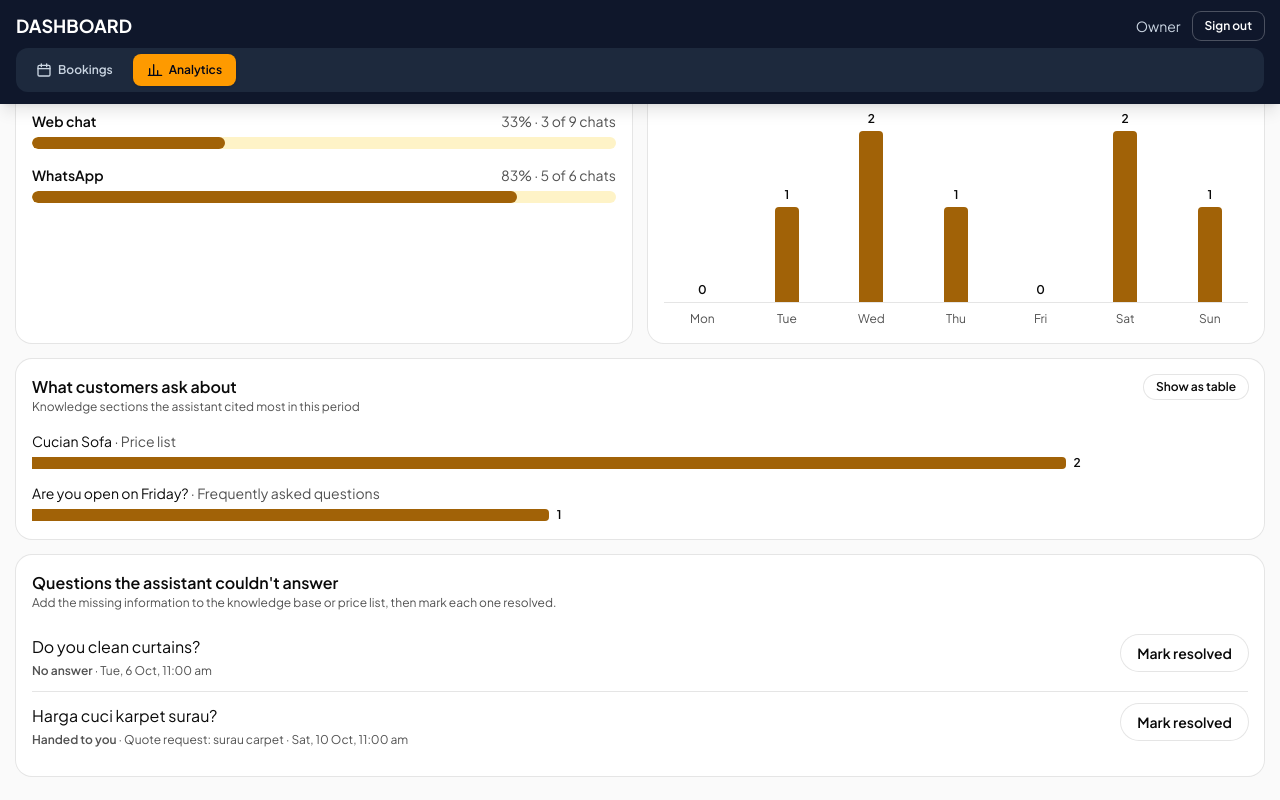
Test: analytics page › resolves an unanswered question and refreshes the count
(page scrolled)
Expected: the text "Do you clean curtains?" is shown, [32,635,212,659]
Expected: the text "Quote request: surau carpet" is shown, [117,732,284,747]
Step 1. Click the button "Mark resolved" in the row of "Do you clean curtains?" → (1185, 653), box [1121,635,1248,671]
(page scrolled)
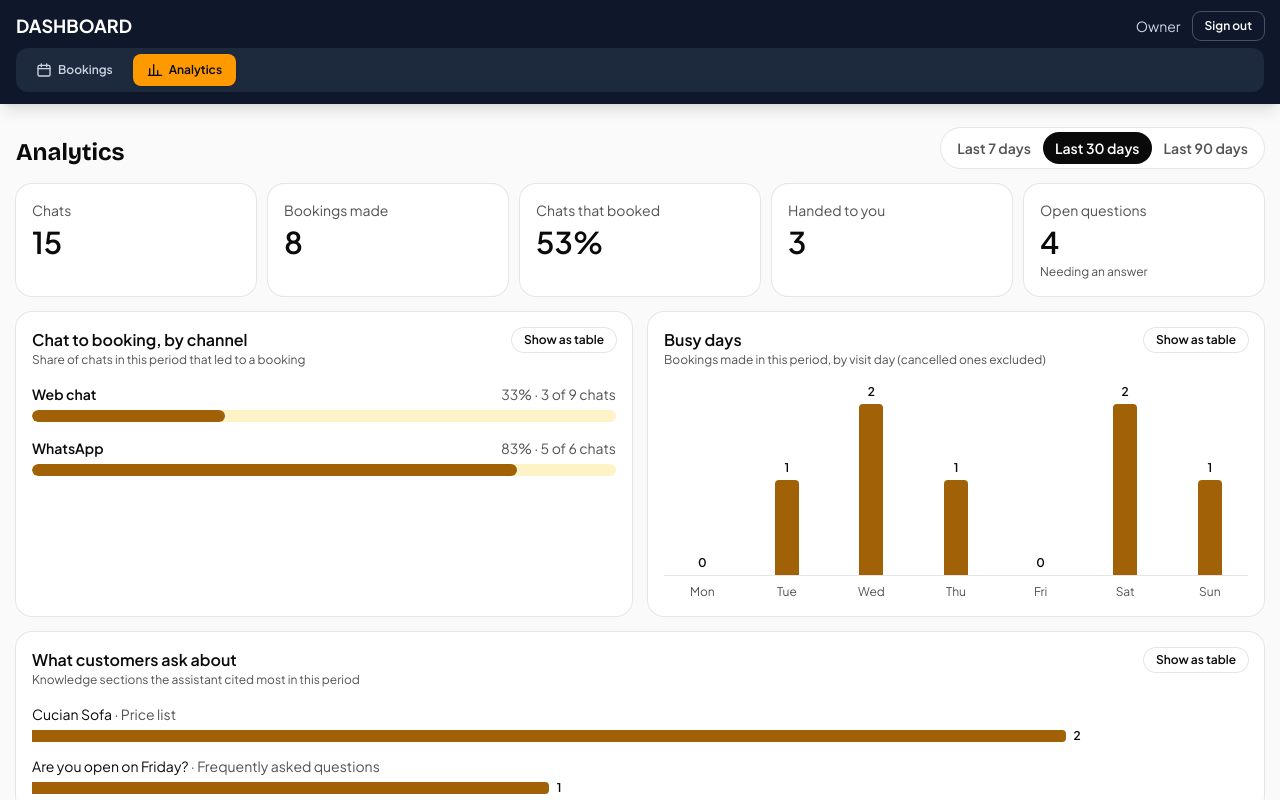
Result: the text "Do you clean curtains?" is gone
